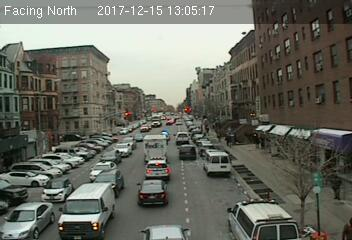car: (1, 200, 54, 239), (137, 178, 170, 207), (95, 168, 124, 196), (41, 178, 73, 203), (88, 160, 117, 181), (176, 144, 197, 161), (99, 150, 121, 164), (113, 143, 132, 155), (174, 132, 191, 145)
police: (225, 198, 303, 240), (144, 156, 171, 179)
truck: (59, 181, 117, 240), (143, 133, 168, 162), (204, 151, 231, 175)
